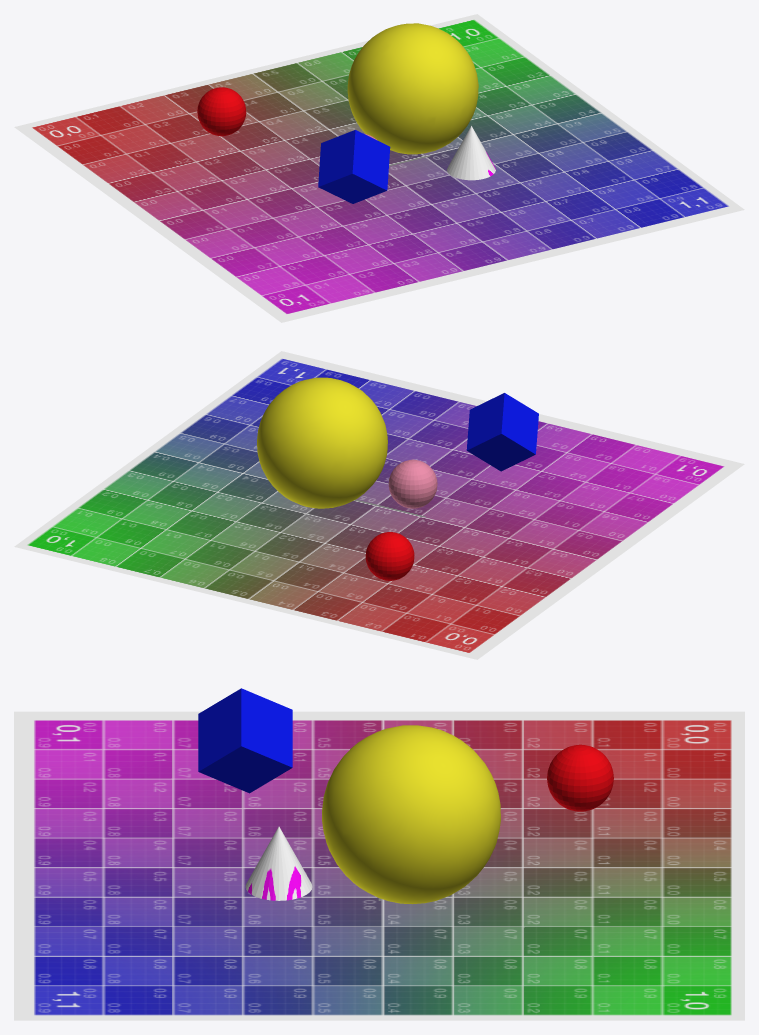
The picture shows the model from 3 angles, top to bottom: view 1: azimuth 30°, elevation 25°; view 2: azimuth 150°, elevation 25°; view 3: azimuth 270°, elevation 25°; orthographic projection. The views are drawn at different scales.
Visible parts, largest first — view 1: Plane, Icosphere, cube, Sphere, Cone; view 2: Plane, Icosphere, cube, pinkSphere, Sphere; view 3: Plane, Icosphere, cube, Sphere, Cone.
Part boxes in pixels (x1,y1,x2,y2): Plane: [14, 14, 744, 322]; Icosphere: [347, 23, 478, 154]; cube: [318, 130, 390, 203]; Sphere: [197, 87, 246, 136]; Cone: [447, 126, 495, 180]; Plane: [14, 351, 744, 659]; Icosphere: [257, 377, 387, 508]; cube: [466, 393, 538, 471]; pinkSphere: [388, 459, 437, 508]; Sphere: [365, 532, 414, 580]; Plane: [14, 711, 744, 1020]; Icosphere: [322, 725, 500, 904]; cube: [198, 688, 292, 793]; Sphere: [547, 744, 613, 811]; Cone: [245, 826, 312, 900].
Size of the model in its own units: 21.83 by 5.37 by 21.83.
6 materials, 2 textured.
